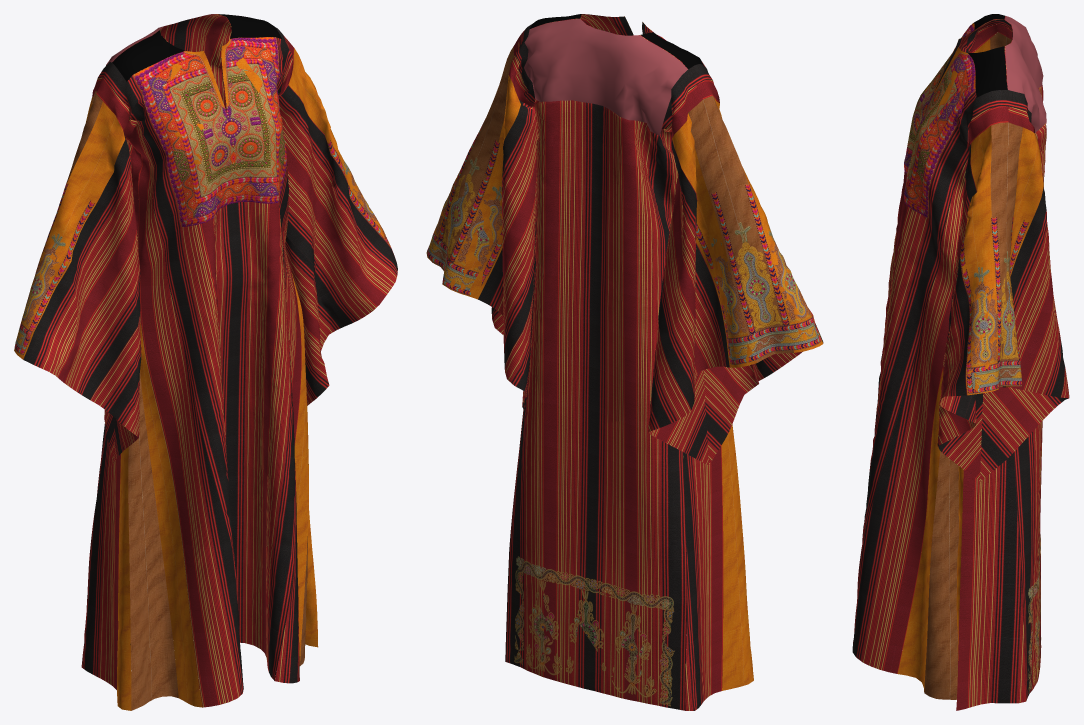
3 renders of one model, left to right at view 1: azimuth 30°, elevation 25°; view 2: azimuth 150°, elevation 25°; view 3: azimuth 270°, elevation 25°, orthographic. The views are drawn at different scales.
Parts seen in each view (by area): view 1: Pattern_174445, Pattern_173525, Designer (8), Pattern_174230, Pattern_174227, Pattern_174141, Pattern_173528, Pattern_174054, Pattern_173418, Pattern_173524, Pattern_174358, Pattern_174361 (+10 smaller); view 2: Pattern_174445, Pattern_207968, Pattern_173528, Pattern_174229, Pattern_174228, Designer (6), Pattern_170309, Pattern_174057, Designer (7)_1_2, Pattern_174360, Pattern_173417, Pattern_174361 (+9 smaller); view 3: Pattern_173524, Pattern_174445, Pattern_173527, Pattern_174228, Pattern_174140, Designer (8), Pattern_173415, Pattern_174359, Pattern_170308, Pattern_174227, Pattern_174053, Designer (7)_1 (+9 smaller).
Part boxes in pixels (x1,y1,x2,y2): Pattern_174445: [97, 14, 296, 680]; Pattern_173525: [96, 77, 243, 707]; Designer (8): [133, 37, 286, 227]; Pattern_174230: [23, 134, 140, 400]; Pattern_174227: [278, 85, 397, 326]; Pattern_174141: [128, 371, 178, 710]; Pattern_173528: [81, 77, 141, 689]; Pattern_174054: [140, 323, 202, 707]; Pattern_173418: [14, 101, 125, 359]; Pattern_173524: [275, 39, 301, 683]; Pattern_174358: [285, 236, 343, 405]; Pattern_174361: [91, 313, 141, 462]; Pattern_174445: [505, 14, 712, 710]; Pattern_207968: [524, 19, 687, 135]; Pattern_173528: [663, 85, 723, 710]; Pattern_174229: [658, 139, 729, 409]; Pattern_174228: [478, 99, 538, 369]; Designer (6): [514, 556, 674, 706]; Pattern_170309: [688, 95, 793, 362]; Pattern_174057: [721, 425, 753, 690]; Designer (7)_1_2: [711, 184, 793, 359]; Pattern_174360: [648, 319, 708, 465]; Pattern_173417: [672, 113, 756, 367]; Pattern_174361: [704, 363, 763, 465]; Pattern_173524: [852, 106, 1008, 673]; Pattern_174445: [861, 16, 1046, 700]; Pattern_173527: [956, 106, 1034, 710]; Pattern_174228: [1002, 187, 1065, 397]; Pattern_174140: [924, 451, 959, 699]; Designer (8): [904, 23, 975, 218]; Pattern_173415: [960, 125, 998, 395]; Pattern_174359: [980, 369, 1069, 481]; Pattern_170308: [990, 122, 1022, 387]; Pattern_174227: [939, 143, 976, 418]; Pattern_174053: [897, 369, 943, 691]; Designer (7)_1: [960, 217, 998, 393].
Size of the model in its own units: 0.8369 by 1.35 by 0.4213.
8 materials, 6 textured.
